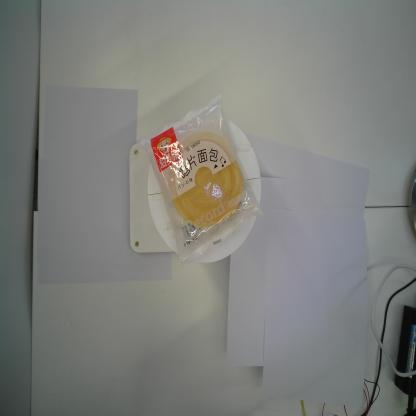Dessert: (138, 95, 264, 267)
